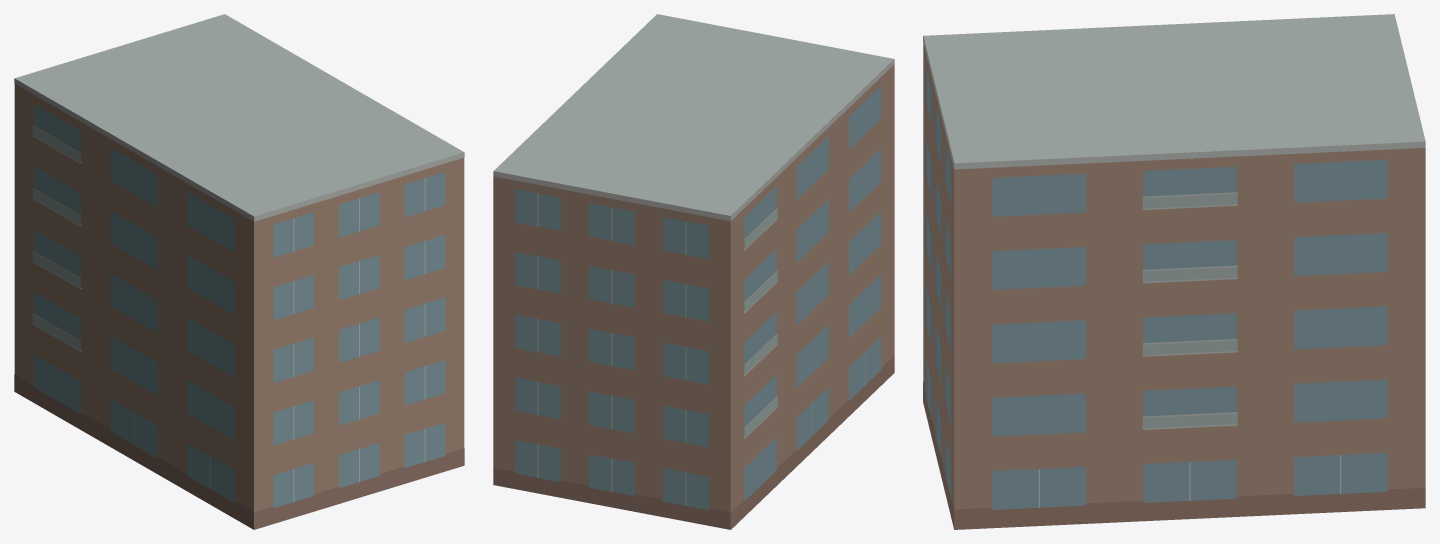
Rendered from survey-upis-32918098.glb.
3 views of the same model, side by side, from view 1: azimuth 30°, elevation 25°; view 2: azimuth 150°, elevation 25°; view 3: azimuth 270°, elevation 25° (orthographic). The views are drawn at different scales.
Visible parts, largest first — view 1: survey-upis-32918098.tmp; view 2: survey-upis-32918098.tmp; view 3: survey-upis-32918098.tmp.
Boxes of the visible parts, x1,y1,x2,y2 form: survey-upis-32918098.tmp: [14, 14, 464, 529]; survey-upis-32918098.tmp: [493, 14, 894, 529]; survey-upis-32918098.tmp: [923, 14, 1425, 529].
Size of the model in its own units: 12.68 by 14.5 by 18.03.
